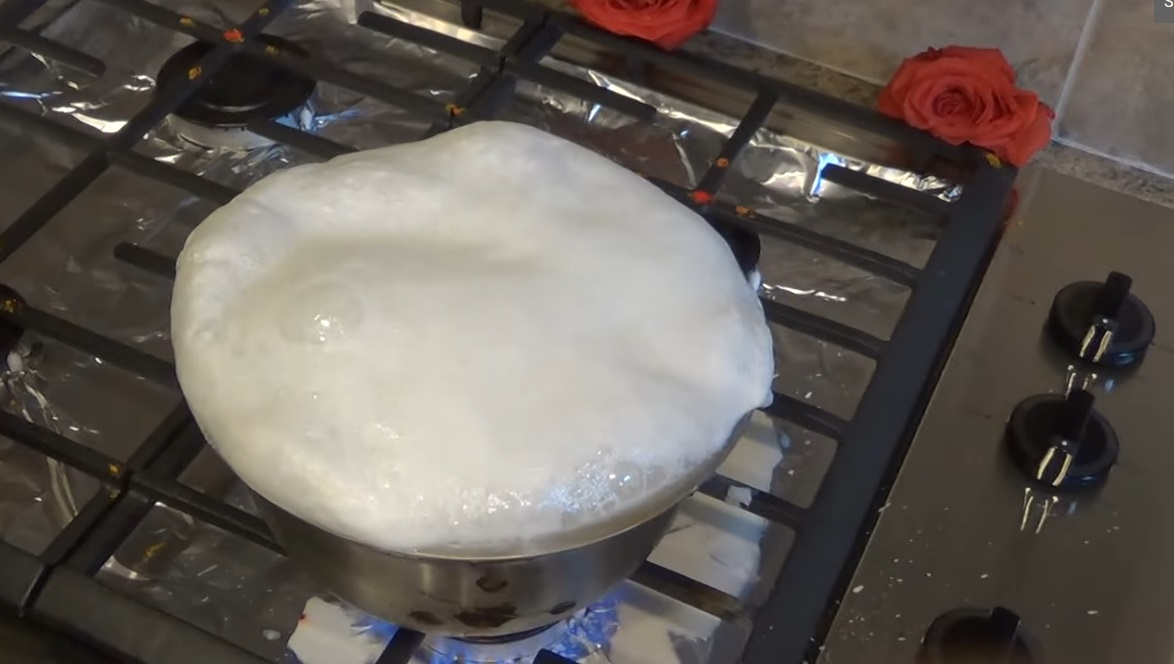Boiled: (143, 104, 780, 645)
